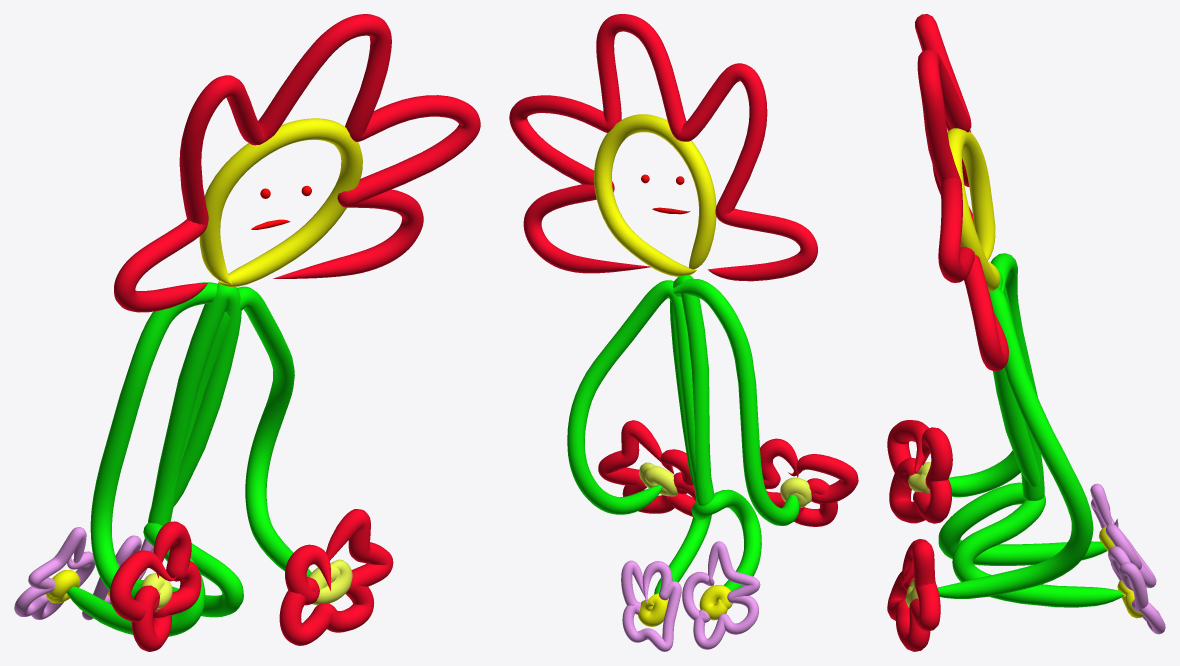
The model's file is flowerboy.glb.
3 views of the same model, side by side, from view 1: azimuth 30°, elevation 25°; view 2: azimuth 150°, elevation 25°; view 3: azimuth 270°, elevation 25° (orthographic). The views are drawn at different scales.
Visible parts, largest first — view 1: flowerboy; view 2: flowerboy; view 3: flowerboy.
Boxes of the visible parts, bbox=[...] form: flowerboy: bbox=[14, 14, 480, 651]; flowerboy: bbox=[509, 14, 858, 651]; flowerboy: bbox=[887, 14, 1165, 651].
Size of the model in its own units: 0.4258 by 0.67 by 0.262.
Materials: 1 (1 with a texture image).
